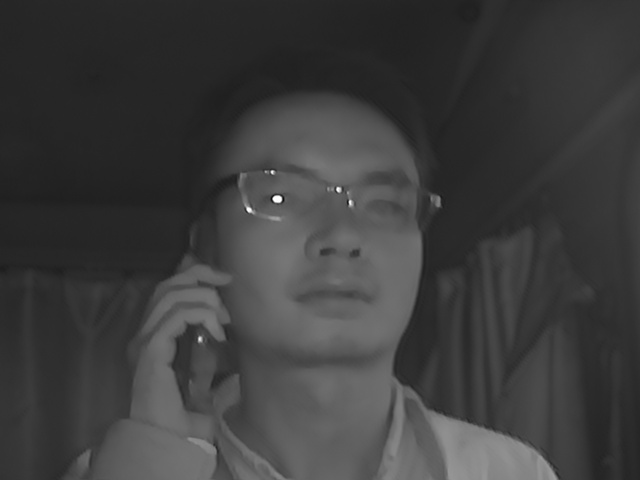hand: (119, 263, 236, 443)
